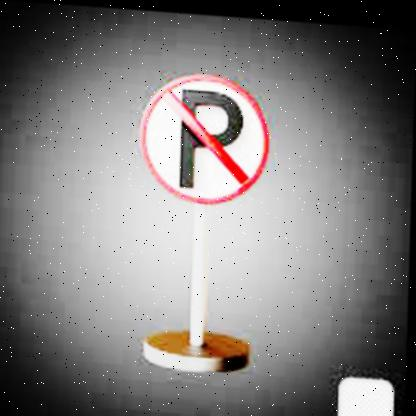No parking: (133, 63, 277, 216)
